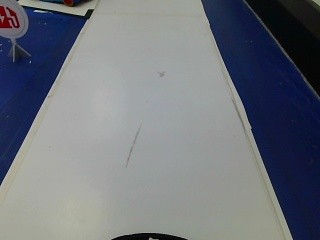battery: (0, 0, 29, 36)
